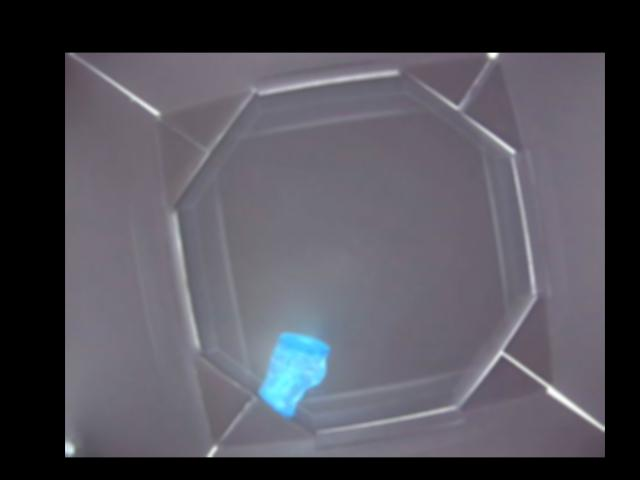Carrot: (259, 335, 327, 413)
